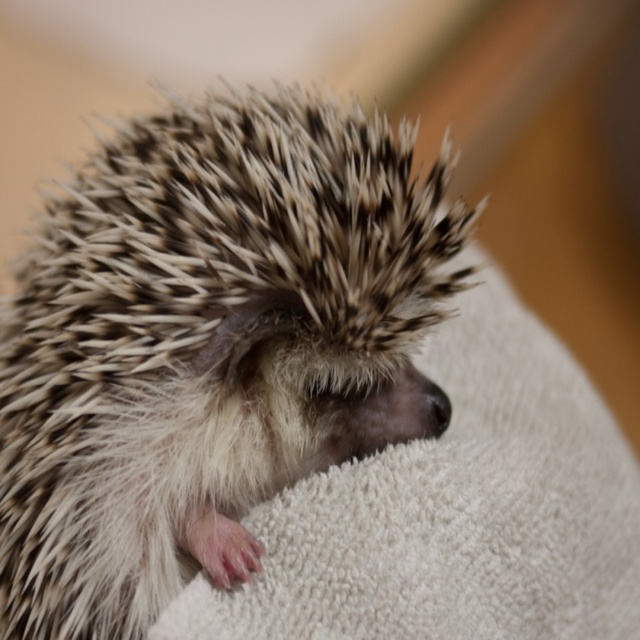Hedgehog: (0, 73, 495, 640)
